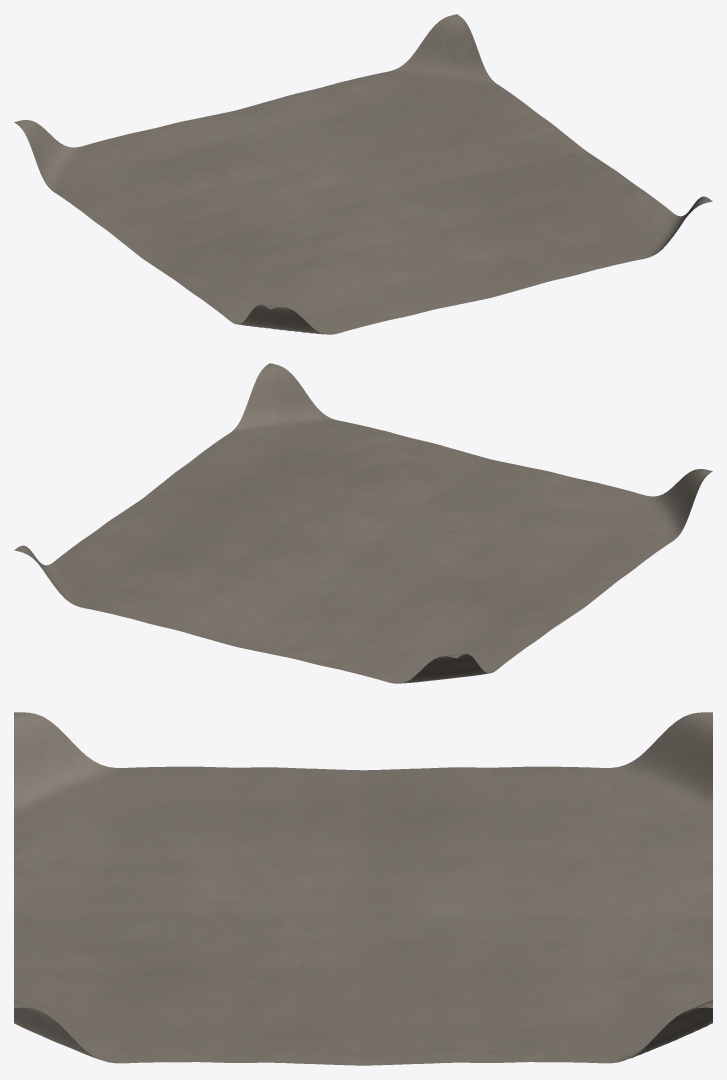
Rendered from rts-moon-plate.obj.
3 renders of one model, top to bottom at view 1: azimuth 30°, elevation 25°; view 2: azimuth 150°, elevation 25°; view 3: azimuth 270°, elevation 25°, orthographic. The views are drawn at different scales.
Parts seen in each view (by area): view 1: rts-moon-plate; view 2: rts-moon-plate; view 3: rts-moon-plate.
Part boxes in pixels (box(x1,y1,x2,y2)): rts-moon-plate: box(14, 14, 712, 334); rts-moon-plate: box(14, 363, 712, 683); rts-moon-plate: box(14, 712, 712, 1065).
Size of the model in its own units: 200 by 18.28 by 200.
Materials: 1 (1 with a texture image).
